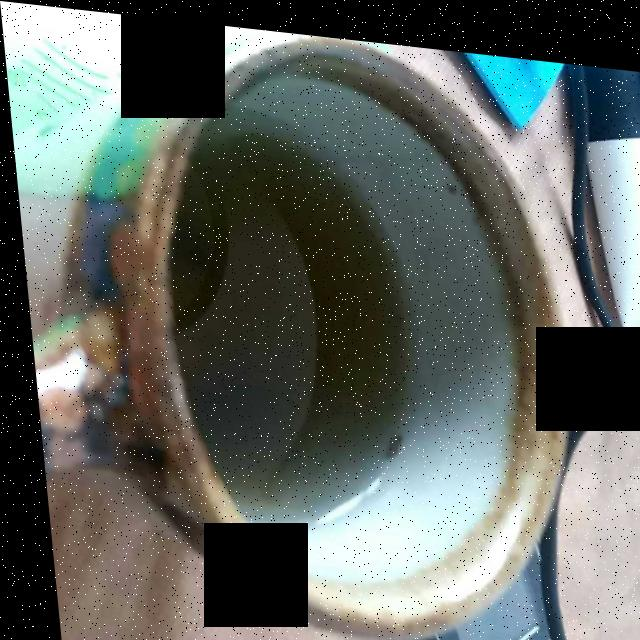tea: (152, 101, 388, 519)
